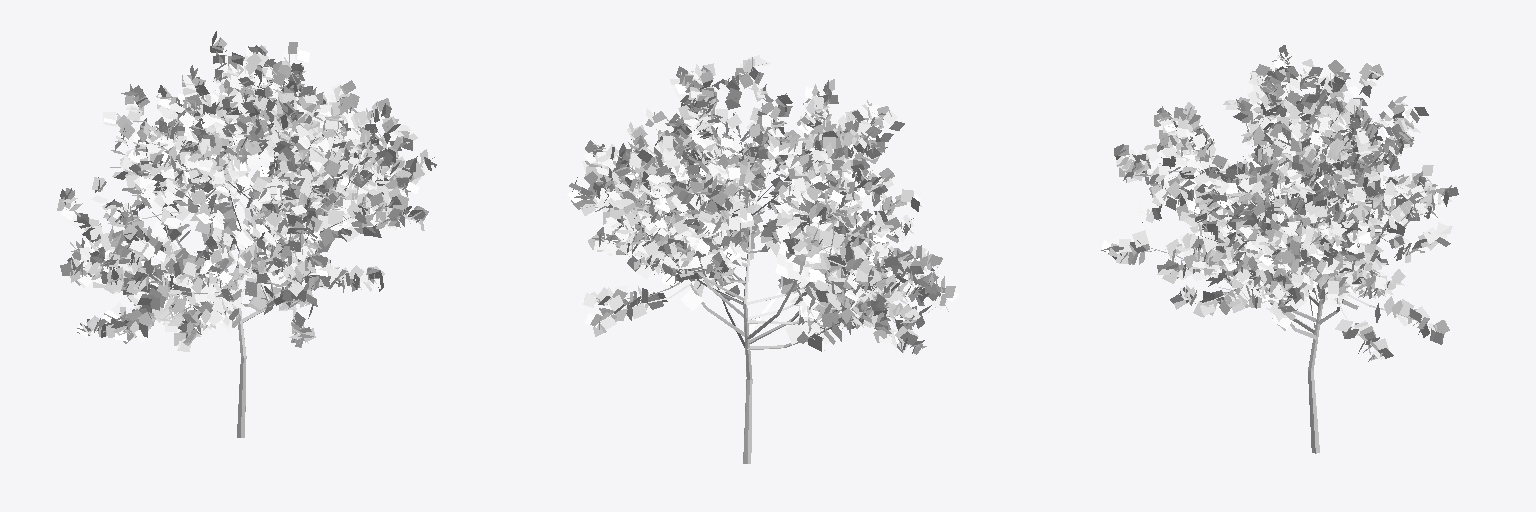
Rendered from tree.obj.
The picture shows the model from 3 angles: view 1: azimuth 30°, elevation 25°; view 2: azimuth 150°, elevation 25°; view 3: azimuth 270°, elevation 25°; orthographic projection.
Parts seen in each view (by area): view 1: tree; view 2: tree; view 3: tree.
Boxes of the visible parts, x1,y1,x2,y2 form: tree: [57, 31, 436, 437]; tree: [567, 55, 958, 463]; tree: [1101, 45, 1458, 453].
Size of the model in its own units: 17.49 by 17.76 by 14.81.